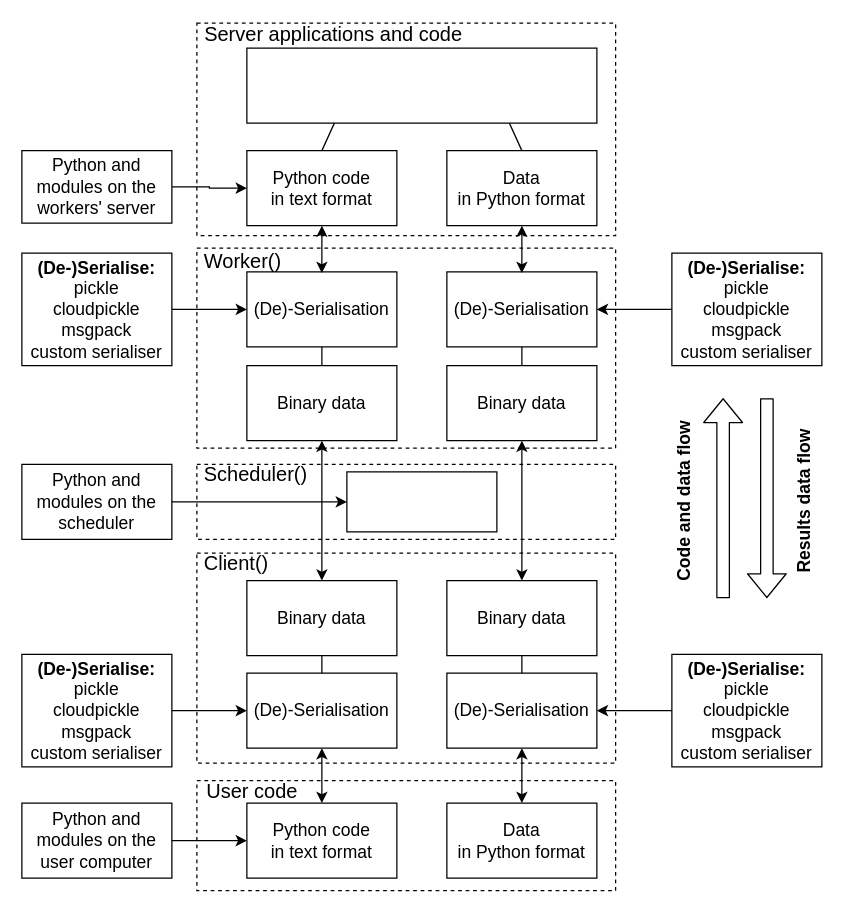
This 844x913 diagram has some shape labels left out. Each missing label, with the centre of its shape:
Code executed on server including non-Python code: point 421,85
Routing to and from workers: point 421,501
